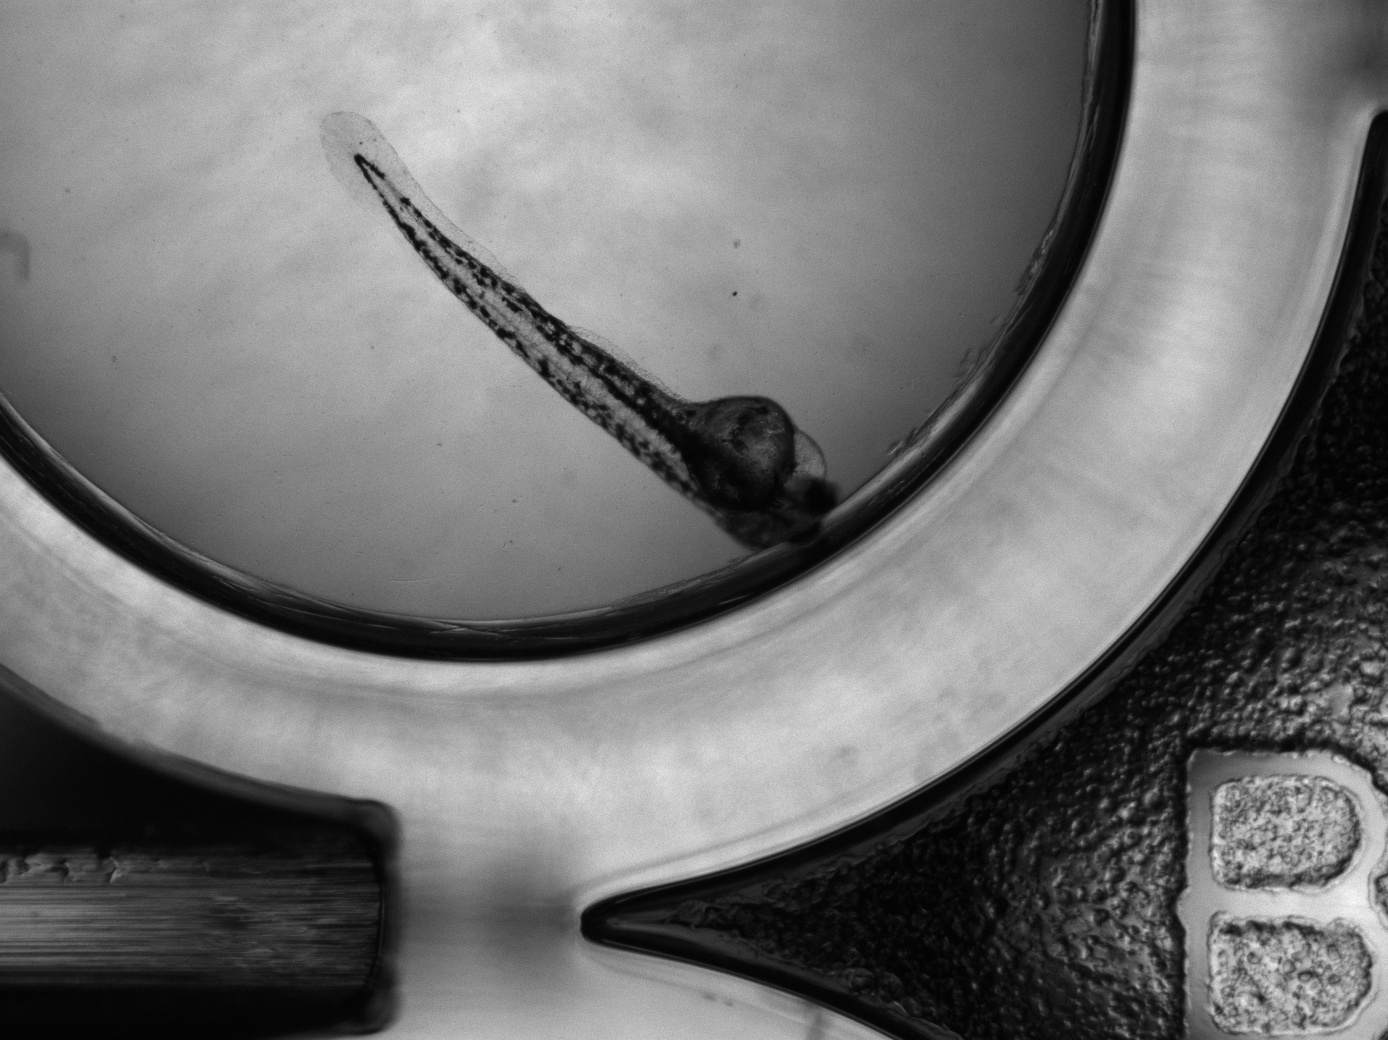embryo: (354, 153, 838, 552)
eye: (800, 478, 839, 517)
yolksac: (688, 395, 799, 512)
